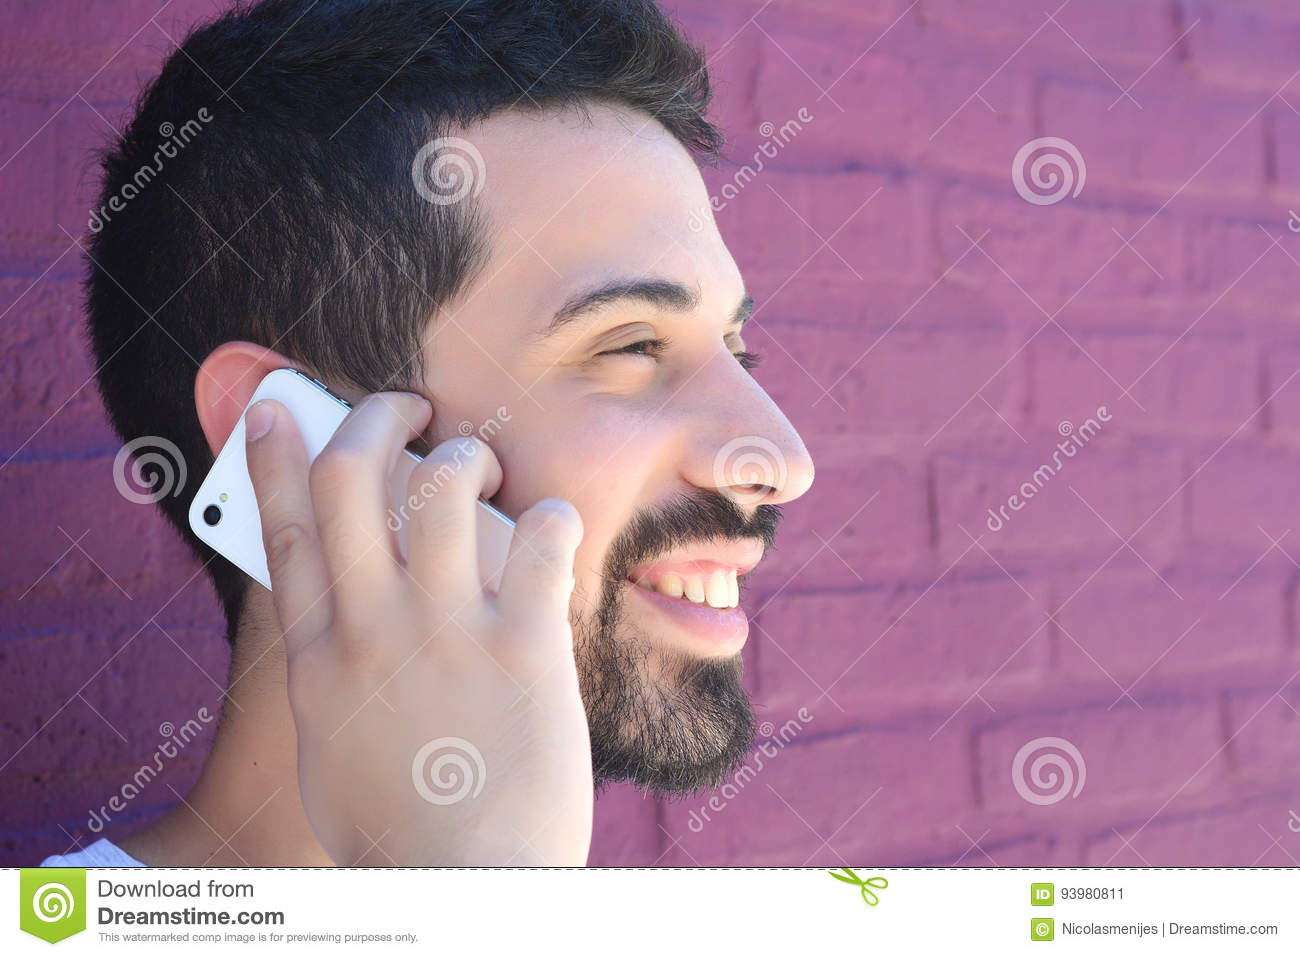phone: (191, 358, 535, 636)
talk: (191, 256, 811, 868)
